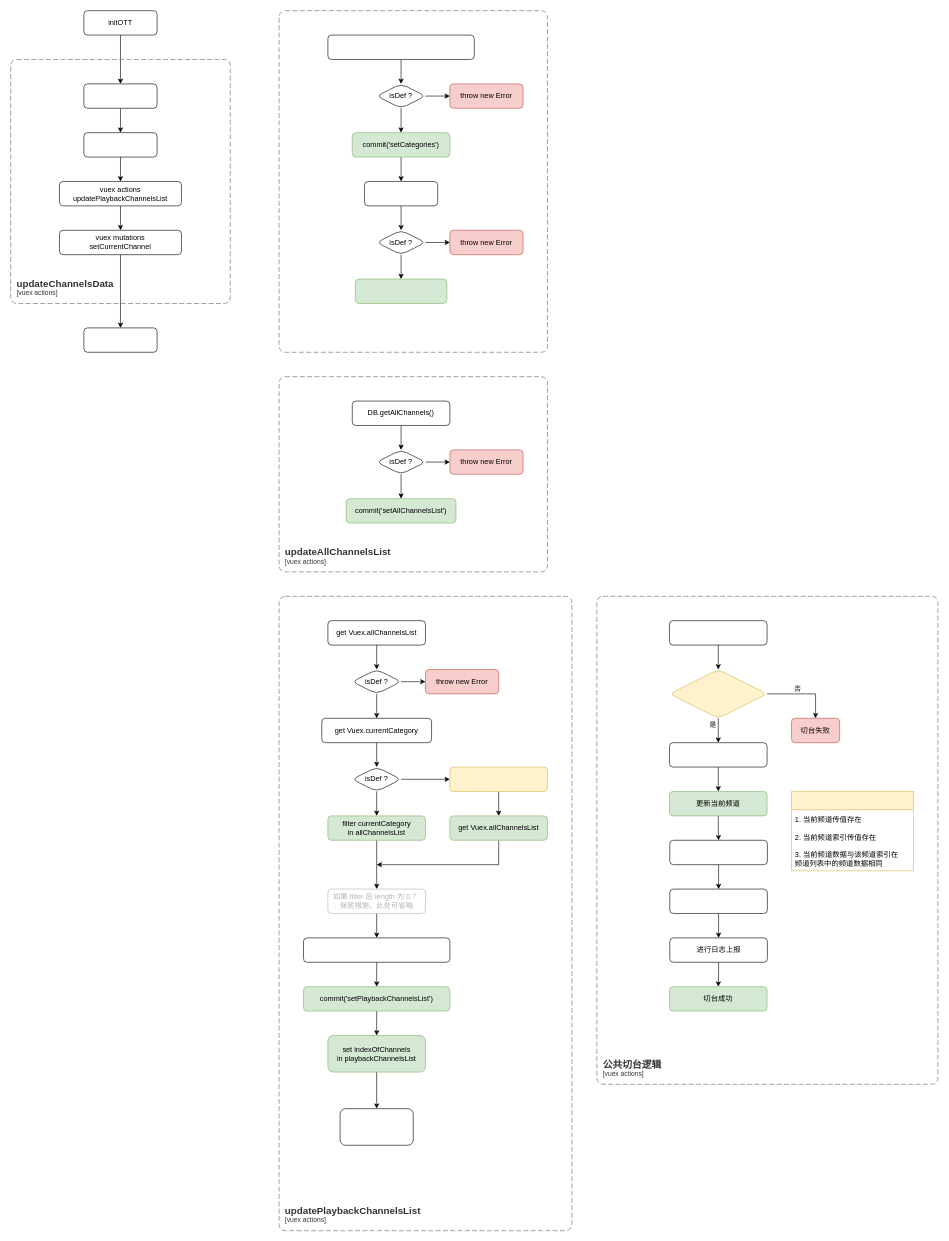
This 949x1241 diagram has some shape labels left out. Each missing label, with the box of its shape:
commit('switchCategory'): (355, 278, 447, 303)
commit('switchCategory', -1): (449, 766, 547, 791)
DB.theChannelCategory.getAllCategories(): (327, 34, 474, 59)
Done: (83, 327, 157, 352)
updateCategoryList [vuex actions]: (278, 10, 547, 352)
vuex actions updateAllChannelsList: (83, 132, 157, 157)
vuex actions updateCategoryList: (83, 83, 157, 108)
判断频道准确性: (791, 791, 913, 871)
判断频道准确性 （详见右侧）: (669, 669, 767, 718)
更新上一个频道: (669, 742, 767, 767)
构造日志上报参数: (669, 888, 767, 913)
清空频道号: (669, 840, 767, 865)
统一处理 indexOfChannels 索引: (303, 937, 450, 962)
触发切台逻辑 globalToggleChannelTo: (669, 620, 767, 645)
读取 localStorage 的 current category: (364, 181, 438, 206)
